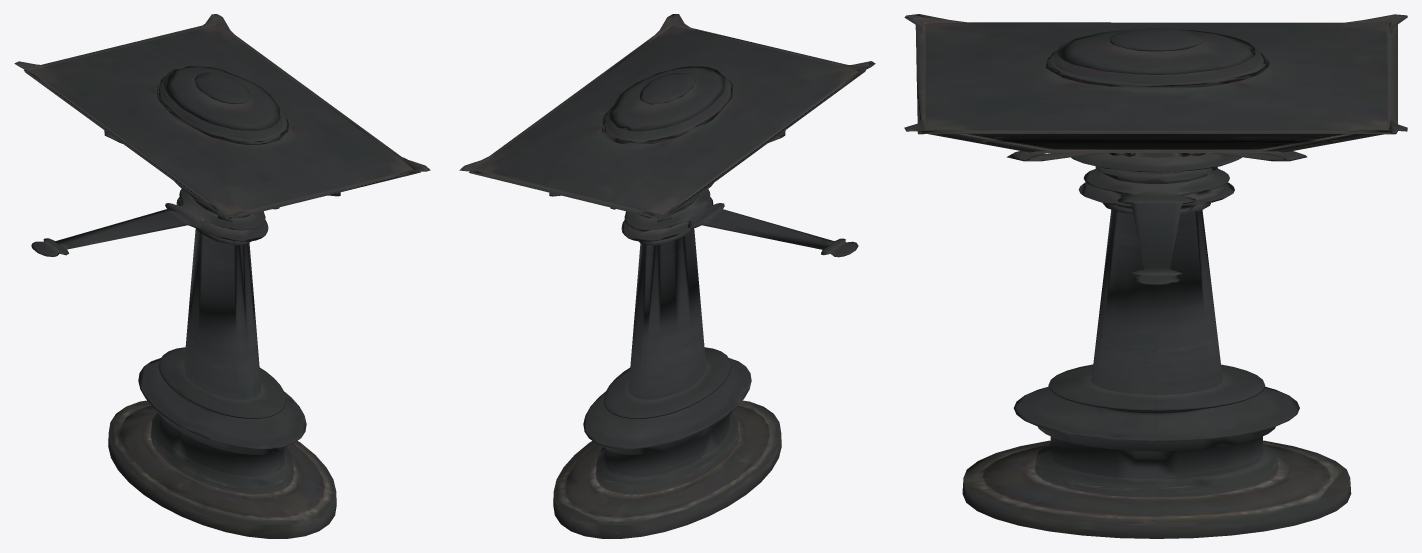
The model's file is ph-street-lamp-01.glb.
3 renders of one model, left to right at view 1: azimuth 30°, elevation 25°; view 2: azimuth 150°, elevation 25°; view 3: azimuth 270°, elevation 25°, orthographic. The views are drawn at different scales.
Visible parts, largest first — view 1: street_lamp_01; view 2: street_lamp_01; view 3: street_lamp_01.
Boxes of the visible parts, x1=… form: street_lamp_01: x1=14, y1=14, x2=430, y2=538; street_lamp_01: x1=459, y1=14, x2=875, y2=538; street_lamp_01: x1=904, y1=14, x2=1407, y2=538.
Bounding box in the file's own units: 0.9987 × 0.9993 × 0.9959.
Materials: 2 (2 with a texture image).
